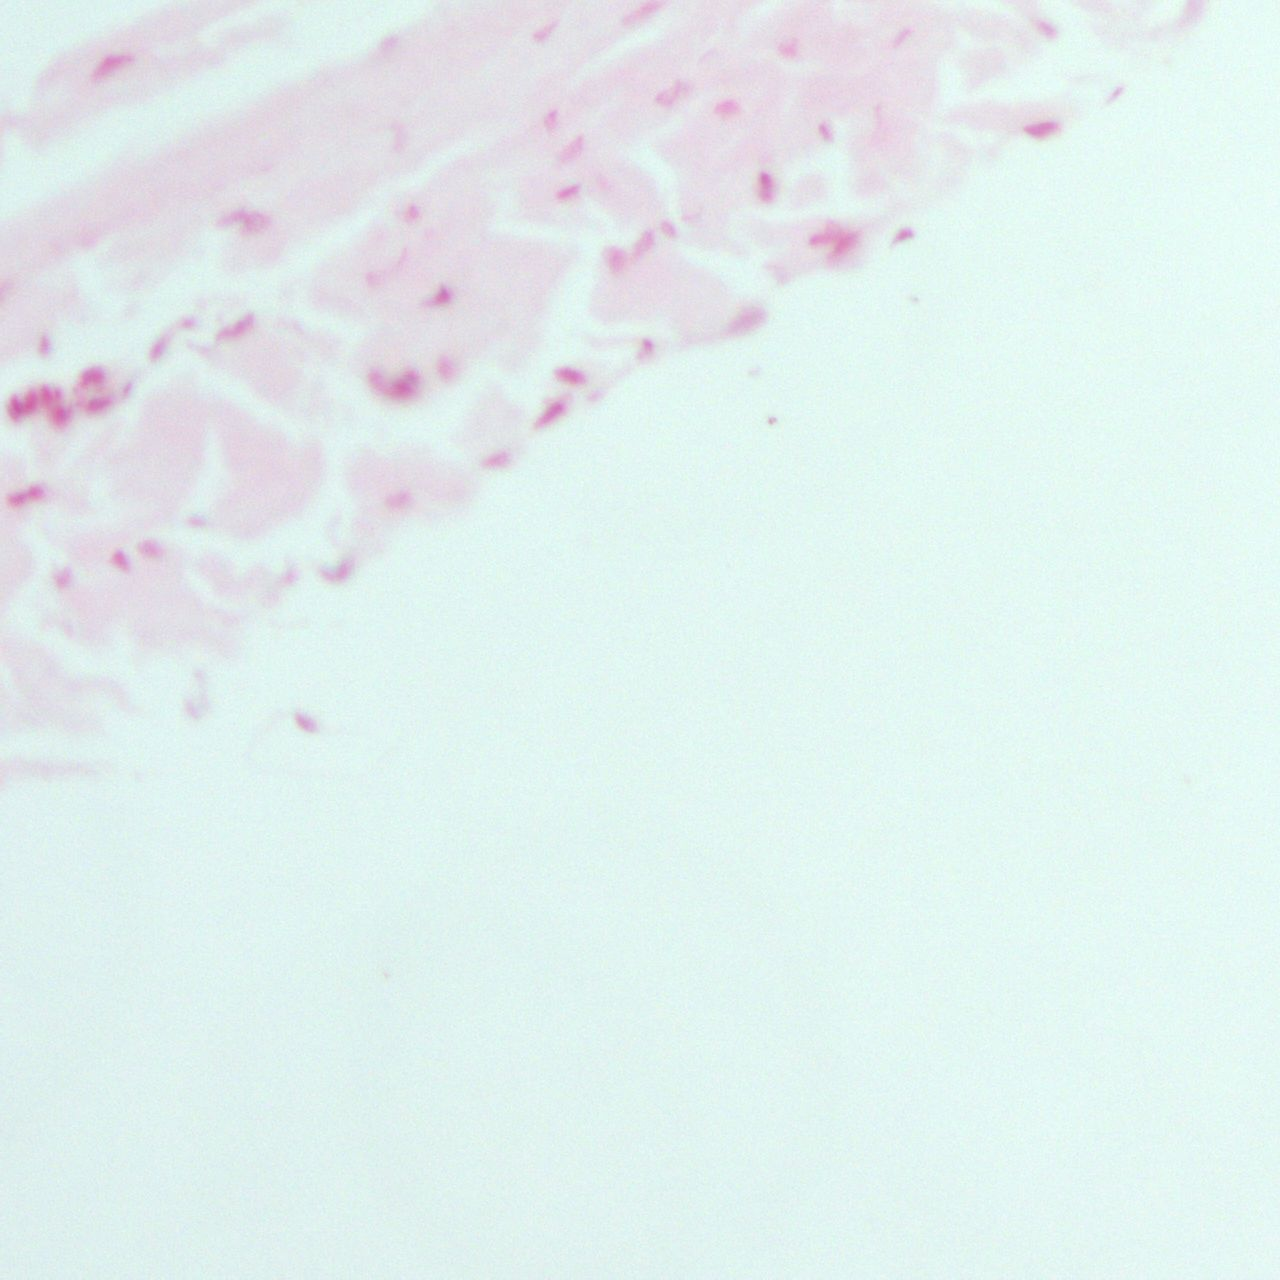nucleus-AC: (22, 390, 38, 414)
